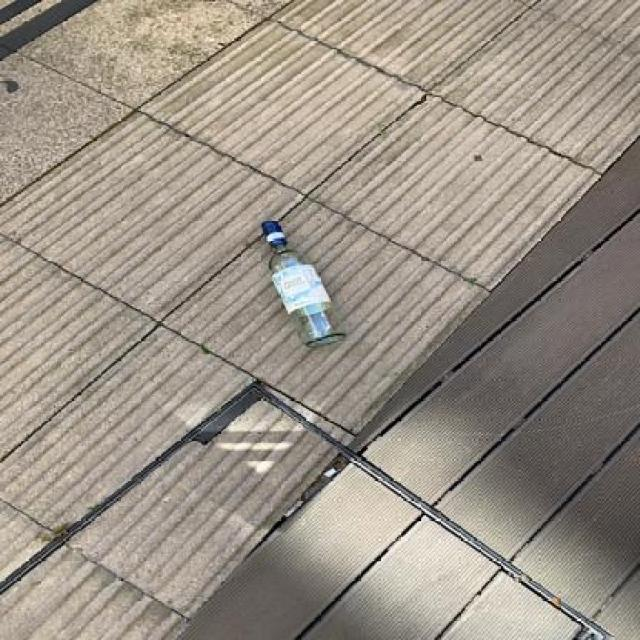trash: (254, 218, 346, 352)
